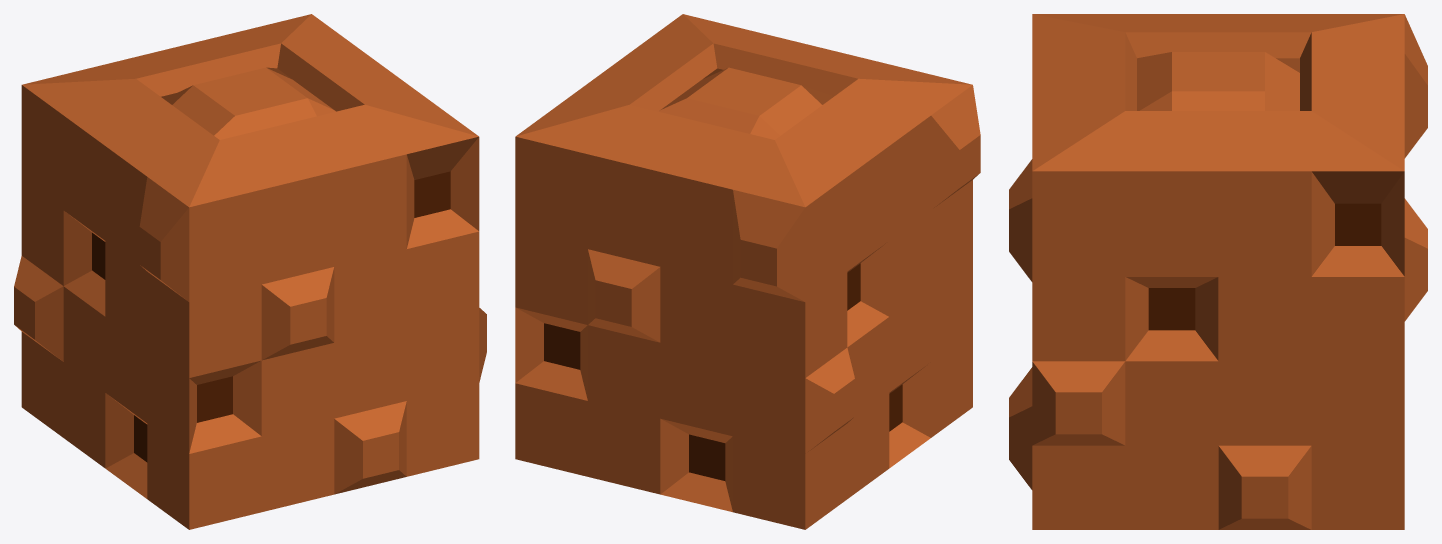
The model's file is desert-wall.gltf.
3 views of the same model, side by side, from view 1: azimuth 30°, elevation 25°; view 2: azimuth 150°, elevation 25°; view 3: azimuth 270°, elevation 25° (orthographic). The views are drawn at different scales.
Visible parts, largest first — view 1: desert; view 2: desert; view 3: desert.
Boxes of the visible parts, bbox=[...] form: desert: bbox=[14, 14, 486, 529]; desert: bbox=[515, 14, 980, 529]; desert: bbox=[1009, 14, 1427, 529].
Size of the model in its own units: 1.12 by 1.12 by 1.12.
Materials: 1 (1 with a texture image).
